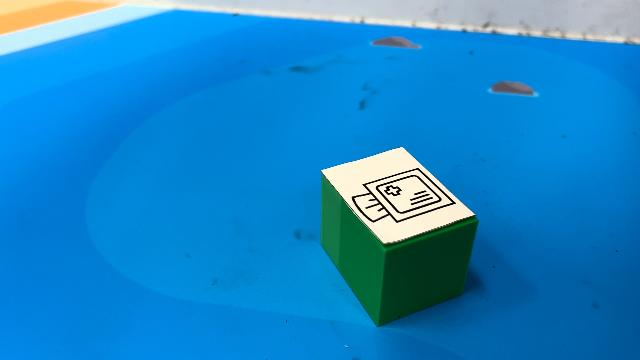napkin: (318, 144, 480, 324)
